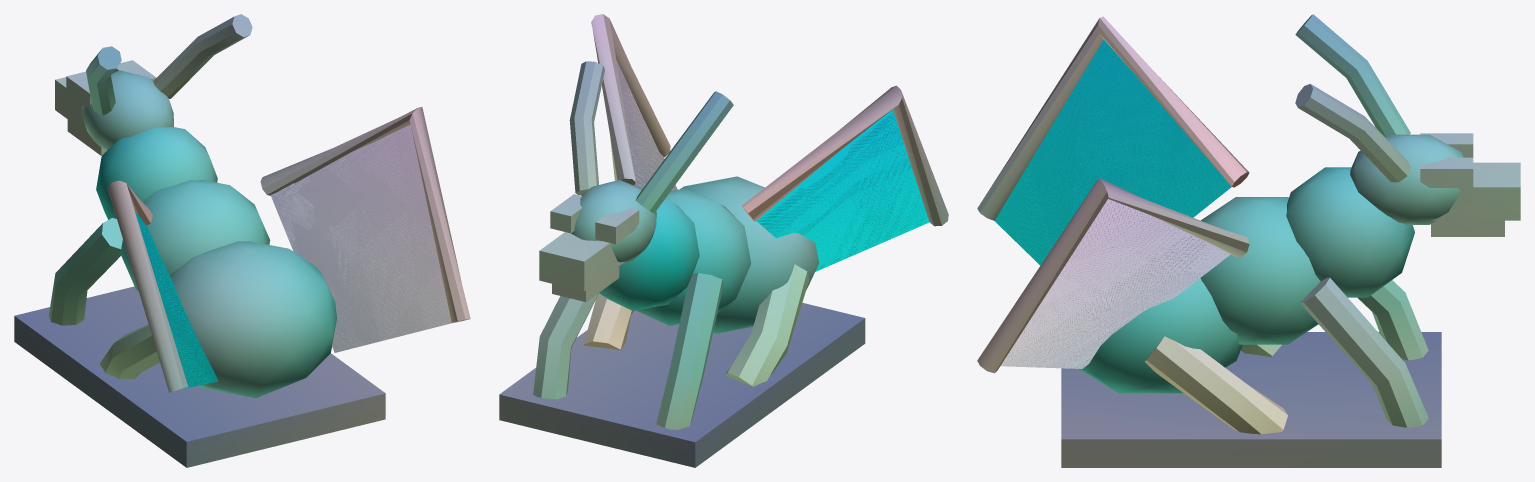
The model's file is gargoyle.glb.
3 renders of one model, left to right at view 1: azimuth 30°, elevation 25°; view 2: azimuth 150°, elevation 25°; view 3: azimuth 270°, elevation 25°, orthographic. The views are drawn at different scales.
Visible parts, largest first — view 1: gargoyle_body, gargoyle_plinth, wing.001, gargoyle_head, wing_rib.001, wing_rib, leg, wing, horn.001, hind, horn; view 2: gargoyle_plinth, gargoyle_body, wing, gargoyle_head, wing_rib, leg, wing_rib.001, hind, leg.001, horn, horn.001, wing.001 (+1 smaller); view 3: gargoyle_plinth, gargoyle_body, wing, wing.001, gargoyle_head, wing_rib, wing_rib.001, leg.001, hind.001, horn, horn.001, leg.
Part boxes in pixels (x1,y1,x2,y2): gargoyle_body: (96,127,336,398); gargoyle_plinth: (14,286,385,467); wing.001: (270,124,454,352); gargoyle_head: (55,60,173,155); wing_rib.001: (260,107,470,323); wing_rib: (107,180,188,392); leg: (48,218,122,325); wing: (135,212,218,389); horn.001: (153,14,252,98); hind: (100,324,159,379); horn: (86,46,121,115); gargoyle_plinth: (499,302,865,467); gargoyle_body: (599,176,819,333); wing: (756,109,929,271); gargoyle_head: (539,180,656,301); wing_rib: (742,85,948,226); leg: (656,273,723,429); wing_rib.001: (591,14,670,185); hind: (725,264,809,386); leg.001: (533,293,598,399); horn: (636,91,733,213); horn.001: (569,61,604,195); wing.001: (616,60,677,190); gargoyle_plinth: (1061,332,1441,467); gargoyle_body: (1079,167,1414,393); wing: (994,40,1231,265); wing.001: (1000,199,1230,368); gargoyle_head: (1350,133,1520,236); wing_rib: (977,16,1249,220); wing_rib.001: (977,178,1249,373); leg.001: (1300,277,1428,427); hind.001: (1144,336,1287,434); horn: (1295,14,1410,137); horn.001: (1295,84,1410,182); leg: (1357,280,1428,360).
Bounding box in the file's own units: 0.7612 × 0.7595 × 1.03.
